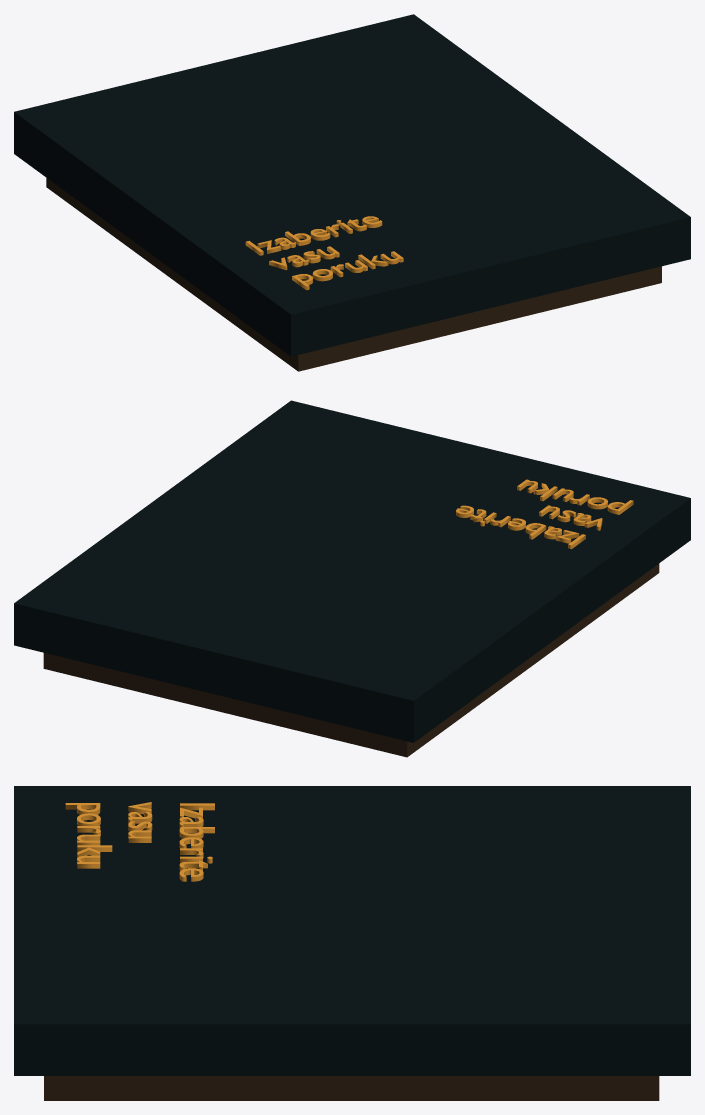
The model's file is kutija4.acbcace4.glb.
3 views of the same model, one above another, from view 1: azimuth 30°, elevation 25°; view 2: azimuth 150°, elevation 25°; view 3: azimuth 270°, elevation 25° (orthographic). The views are drawn at different scales.
Parts seen in each view (by area): view 1: Cube.002, Cube, Text; view 2: Cube.002, Cube, Text; view 3: Cube.002, Cube, Text.
Boxes of the visible parts, <box> form: Cube.002: <box>14,14,690,356</box>; Cube: <box>46,178,661,371</box>; Text: <box>245,216,403,290</box>; Cube.002: <box>14,400,690,742</box>; Cube: <box>43,563,659,757</box>; Text: <box>456,479,633,549</box>; Cube.002: <box>14,786,690,1075</box>; Cube: <box>44,1076,659,1100</box>; Text: <box>65,802,214,881</box>.
Size of the model in its own units: 15.91 by 2.97 by 19.09.
